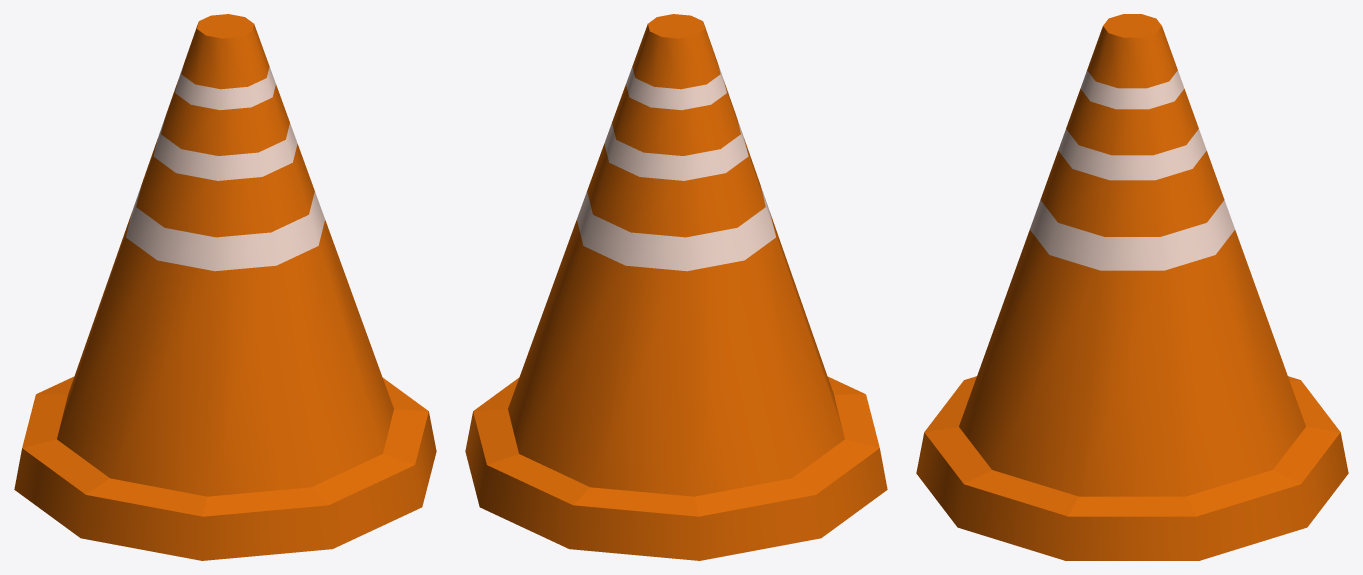
Rendered from traffic cones.fbx.
3 renders of one model, left to right at view 1: azimuth 30°, elevation 25°; view 2: azimuth 150°, elevation 25°; view 3: azimuth 270°, elevation 25°, orthographic.
Parts seen in each view (by area): view 1: pCylinder1; view 2: pCylinder1; view 3: pCylinder1.
Boxes of the visible parts, x1,y1,x2,y2 form: pCylinder1: [14, 14, 436, 560]; pCylinder1: [465, 14, 887, 560]; pCylinder1: [916, 14, 1348, 560].
Size of the model in its own units: 2.3 by 2.74 by 2.4.
